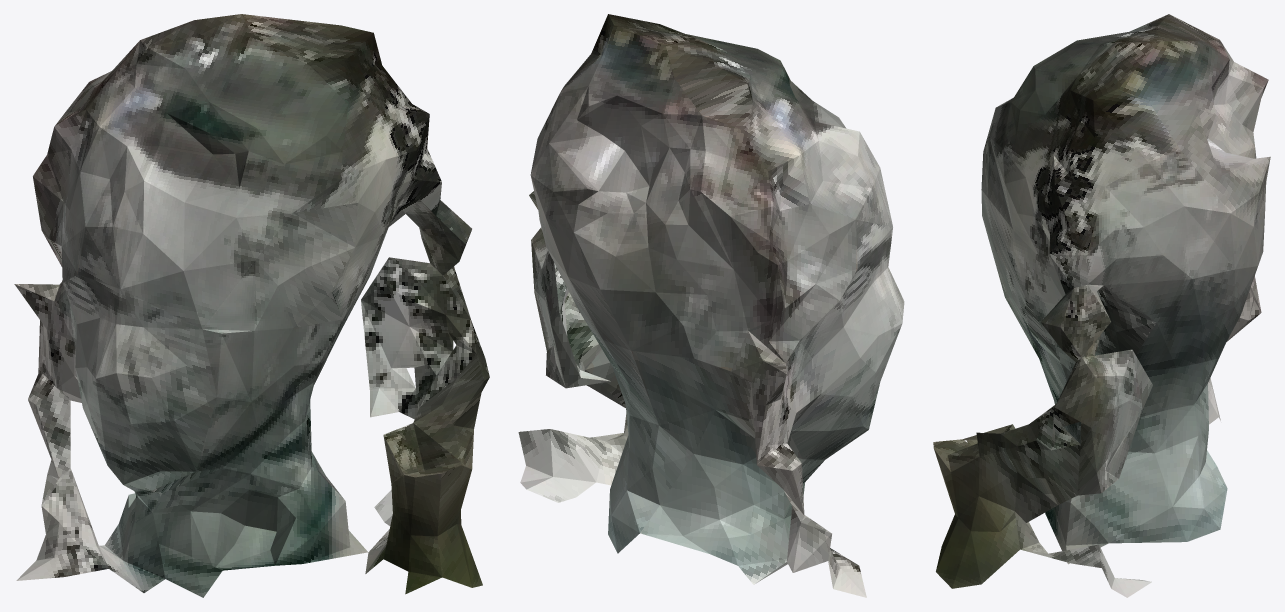
File: concrete-seeds.glb
3 views of the same model, side by side, from view 1: azimuth 30°, elevation 25°; view 2: azimuth 150°, elevation 25°; view 3: azimuth 270°, elevation 25° (orthographic). The views are drawn at different scales.
Visible parts, largest first — view 1: Mesh_0.001; view 2: Mesh_0.001; view 3: Mesh_0.001.
Part boxes in pixels (x1=…): Mesh_0.001: x1=14, y1=14, x2=489, y2=597; Mesh_0.001: x1=518, y1=14, x2=904, y2=597; Mesh_0.001: x1=933, y1=14, x2=1270, y2=597.
Bounding box in the file's own units: 0.232 × 0.2864 × 0.1794.
Materials: 1 (1 with a texture image).
